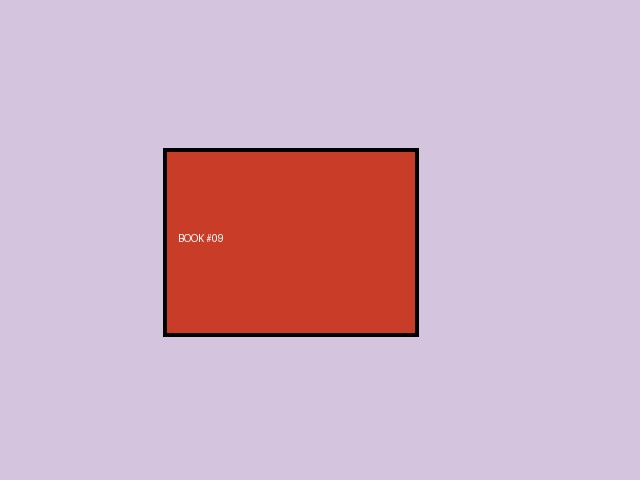book: (163, 148, 418, 336)
